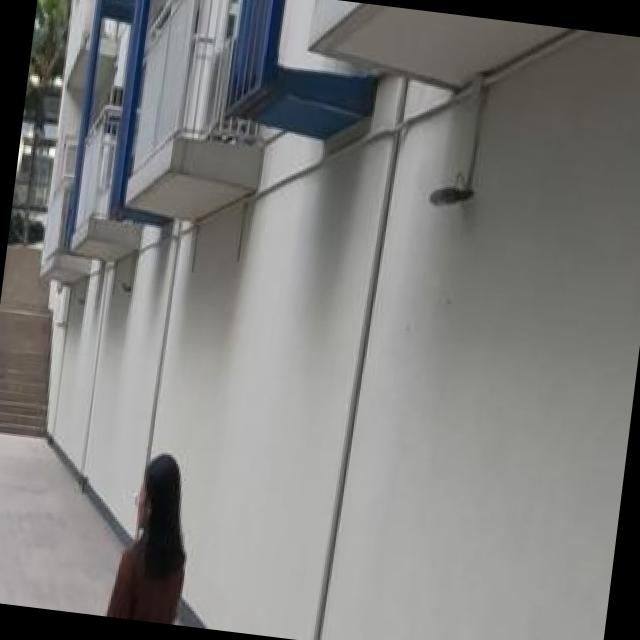Guns: (42, 600, 92, 614)
